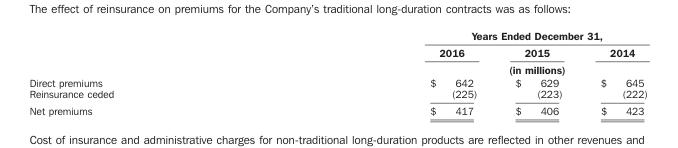table: (28, 29, 646, 116)
table column: (28, 29, 271, 116), (271, 29, 495, 116), (495, 29, 580, 116), (580, 29, 646, 116)
table column header: (28, 29, 646, 75)
table row: (28, 43, 646, 60), (28, 60, 646, 75), (28, 101, 646, 116), (28, 29, 646, 43), (28, 87, 646, 101), (28, 75, 646, 87)
table spanning cell: (271, 60, 646, 75), (271, 29, 646, 43)
